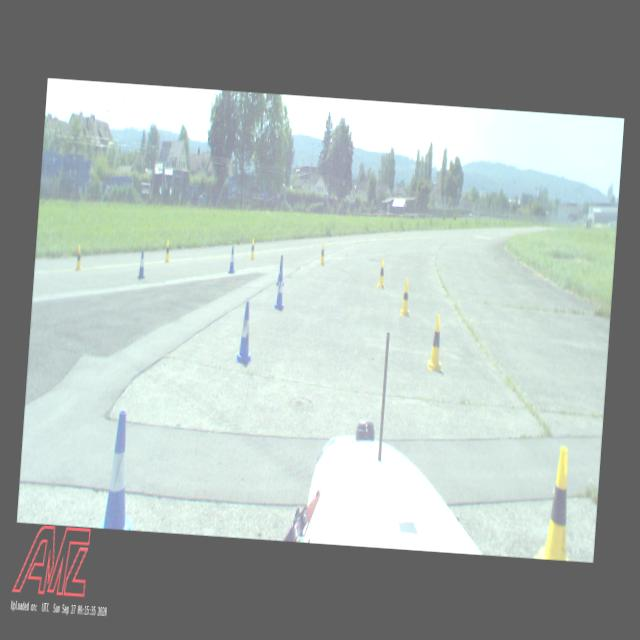blue_cone: (98, 409, 141, 530), (234, 301, 256, 364), (274, 268, 286, 311), (276, 254, 286, 286), (137, 250, 147, 279), (228, 245, 236, 273)
yellow_cone: (534, 445, 576, 561), (426, 314, 446, 371), (400, 277, 412, 316), (376, 258, 386, 288), (74, 243, 84, 270), (164, 239, 172, 262), (318, 242, 326, 265), (250, 238, 256, 260)
